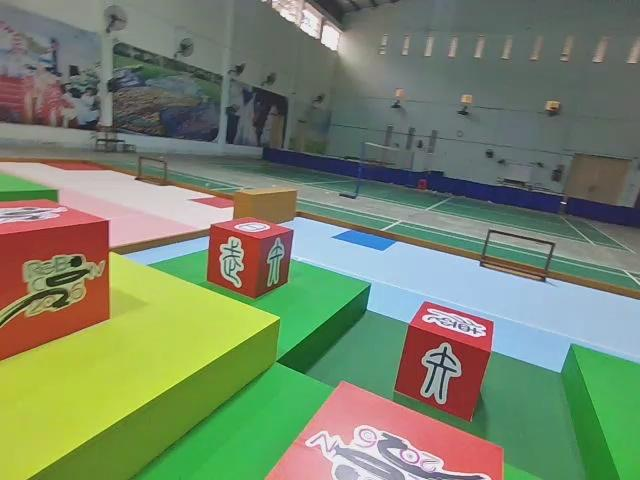R1: (259, 375, 506, 480), (0, 195, 111, 363)
R2 Fake: (392, 298, 495, 423), (207, 212, 296, 301)
